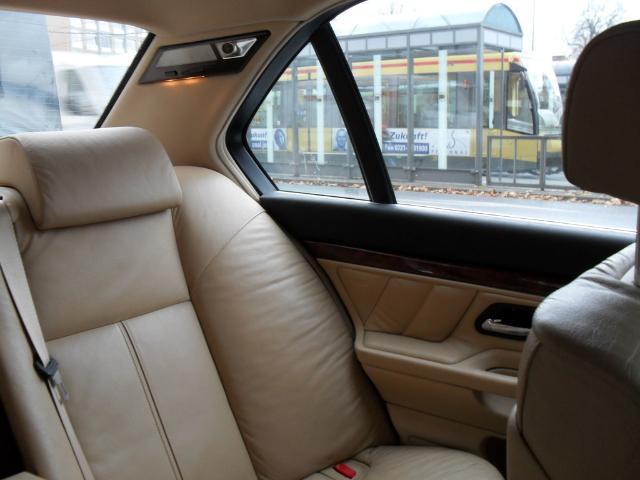Seatbelt: (2, 200, 98, 480)
